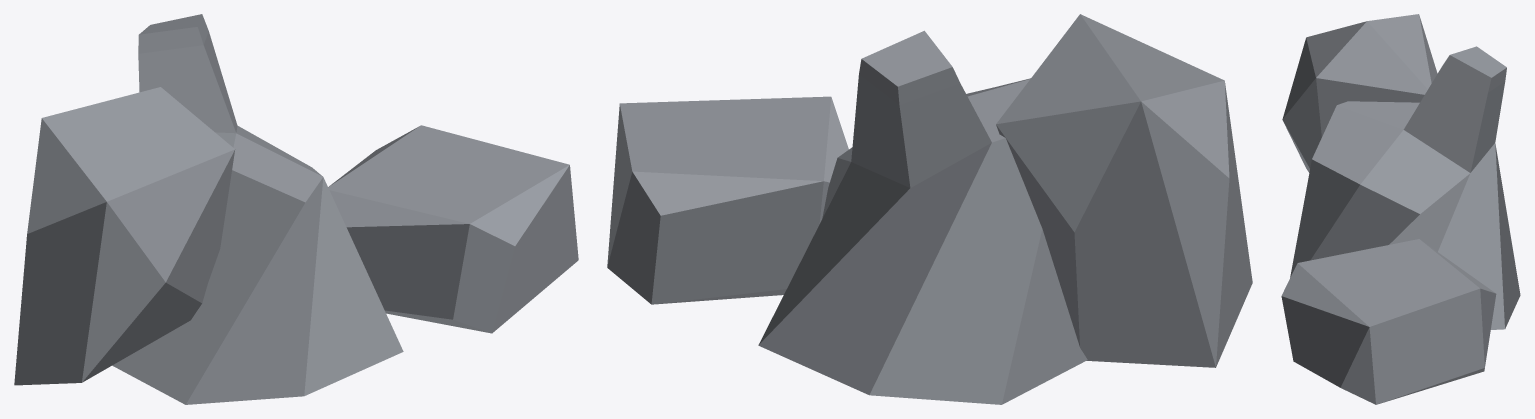
Rendered from Rock_v15.fbx.
The picture shows the model from 3 angles, left to right: view 1: azimuth 30°, elevation 25°; view 2: azimuth 150°, elevation 25°; view 3: azimuth 270°, elevation 25°; orthographic projection. The views are drawn at different scales.
Visible parts, largest first — view 1: Rock_v15; view 2: Rock_v15; view 3: Rock_v15.
Boxes of the visible parts, bbox=[...] form: Rock_v15: bbox=[14, 14, 578, 404]; Rock_v15: bbox=[607, 14, 1252, 404]; Rock_v15: bbox=[1281, 14, 1520, 404].
Size of the model in its own units: 51.35 by 26.74 by 24.22.
1 material, 1 textured.
